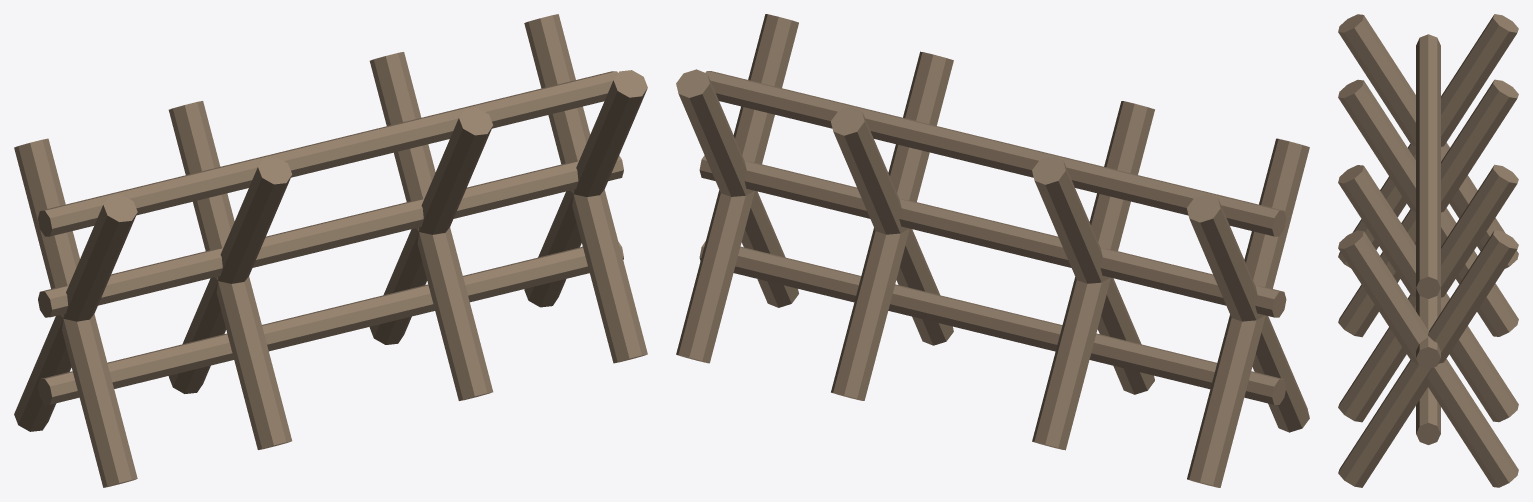
The model's file is spanischer_reiter_holz_4m.glb.
The picture shows the model from 3 angles, left to right: view 1: azimuth 30°, elevation 25°; view 2: azimuth 150°, elevation 25°; view 3: azimuth 270°, elevation 25°; orthographic projection. The views are drawn at different scales.
Parts seen in each view (by area): view 1: spanischer_reiter_holz_4m_010, spanischer_reiter_holz_4m_008, spanischer_reiter_holz_4m_009, spanischer_reiter_holz_4m_001, spanischer_reiter_holz_4m_005, spanischer_reiter_holz_4m_003, spanischer_reiter_holz_4m_007, spanischer_reiter_holz_4m_000, spanischer_reiter_holz_4m_006, spanischer_reiter_holz_4m_004, spanischer_reiter_holz_4m_002; view 2: spanischer_reiter_holz_4m_010, spanischer_reiter_holz_4m_008, spanischer_reiter_holz_4m_009, spanischer_reiter_holz_4m_000, spanischer_reiter_holz_4m_002, spanischer_reiter_holz_4m_004, spanischer_reiter_holz_4m_006, spanischer_reiter_holz_4m_001, spanischer_reiter_holz_4m_005, spanischer_reiter_holz_4m_003, spanischer_reiter_holz_4m_007; view 3: spanischer_reiter_holz_4m_006, spanischer_reiter_holz_4m_007, spanischer_reiter_holz_4m_004, spanischer_reiter_holz_4m_005, spanischer_reiter_holz_4m_010, spanischer_reiter_holz_4m_002, spanischer_reiter_holz_4m_003, spanischer_reiter_holz_4m_000, spanischer_reiter_holz_4m_001, spanischer_reiter_holz_4m_009, spanischer_reiter_holz_4m_008.
Part boxes in pixels (bbox=[...]): spanischer_reiter_holz_4m_010: bbox=[38, 71, 617, 236]; spanischer_reiter_holz_4m_008: bbox=[38, 242, 623, 404]; spanischer_reiter_holz_4m_009: bbox=[38, 155, 623, 317]; spanischer_reiter_holz_4m_001: bbox=[14, 138, 137, 487]; spanischer_reiter_holz_4m_005: bbox=[369, 52, 493, 400]; spanischer_reiter_holz_4m_003: bbox=[168, 101, 292, 449]; spanischer_reiter_holz_4m_007: bbox=[524, 14, 647, 363]; spanischer_reiter_holz_4m_000: bbox=[14, 194, 137, 431]; spanischer_reiter_holz_4m_006: bbox=[524, 70, 647, 307]; spanischer_reiter_holz_4m_004: bbox=[369, 108, 493, 344]; spanischer_reiter_holz_4m_002: bbox=[168, 157, 292, 393]; spanischer_reiter_holz_4m_010: bbox=[705, 71, 1286, 236]; spanischer_reiter_holz_4m_008: bbox=[699, 241, 1286, 404]; spanischer_reiter_holz_4m_009: bbox=[699, 155, 1286, 317]; spanischer_reiter_holz_4m_000: bbox=[1187, 138, 1309, 487]; spanischer_reiter_holz_4m_002: bbox=[1032, 101, 1154, 450]; spanischer_reiter_holz_4m_004: bbox=[831, 51, 953, 400]; spanischer_reiter_holz_4m_006: bbox=[676, 14, 798, 363]; spanischer_reiter_holz_4m_001: bbox=[1187, 194, 1309, 432]; spanischer_reiter_holz_4m_005: bbox=[831, 107, 953, 345]; spanischer_reiter_holz_4m_003: bbox=[1032, 156, 1154, 394]; spanischer_reiter_holz_4m_007: bbox=[676, 69, 798, 307]; spanischer_reiter_holz_4m_006: bbox=[1338, 230, 1518, 487]; spanischer_reiter_holz_4m_007: bbox=[1338, 230, 1518, 487]; spanischer_reiter_holz_4m_004: bbox=[1338, 165, 1518, 422]; spanischer_reiter_holz_4m_005: bbox=[1338, 164, 1518, 422]; spanischer_reiter_holz_4m_010: bbox=[1416, 34, 1440, 298]; spanischer_reiter_holz_4m_002: bbox=[1338, 79, 1518, 336]; spanischer_reiter_holz_4m_003: bbox=[1338, 79, 1518, 337]; spanischer_reiter_holz_4m_000: bbox=[1338, 14, 1518, 268]; spanischer_reiter_holz_4m_001: bbox=[1338, 14, 1518, 267]; spanischer_reiter_holz_4m_009: bbox=[1416, 288, 1440, 369]; spanischer_reiter_holz_4m_008: bbox=[1416, 387, 1440, 444].
Size of the model in its own units: 3.7 by 1.8 by 1.17.
